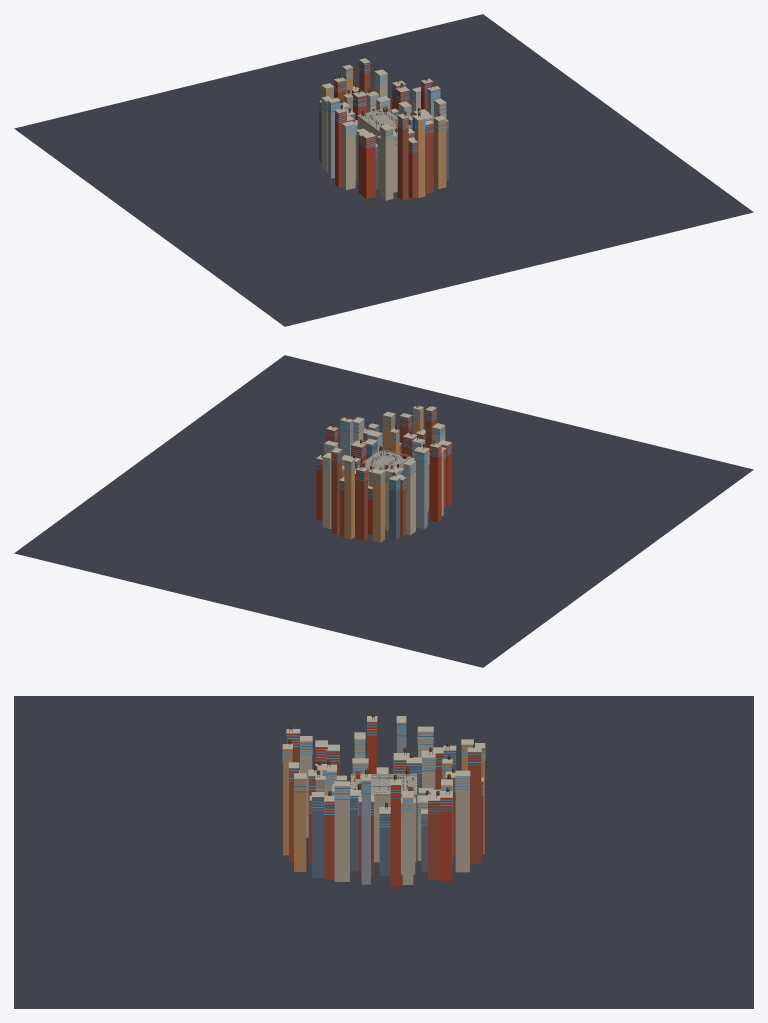
The model's file is rooftop.glb.
3 views of the same model, one above another, from view 1: azimuth 30°, elevation 25°; view 2: azimuth 150°, elevation 25°; view 3: azimuth 270°, elevation 25° (orthographic). The views are drawn at different scales.
Visible parts, largest first — view 1: rooftop; view 2: rooftop; view 3: rooftop.
Boxes of the visible parts, x1=… form: rooftop: x1=14, y1=14, x2=753, y2=326; rooftop: x1=14, y1=355, x2=753, y2=667; rooftop: x1=14, y1=696, x2=753, y2=1008.
Bounding box in the file's own units: 400 × 91.49 × 400.
